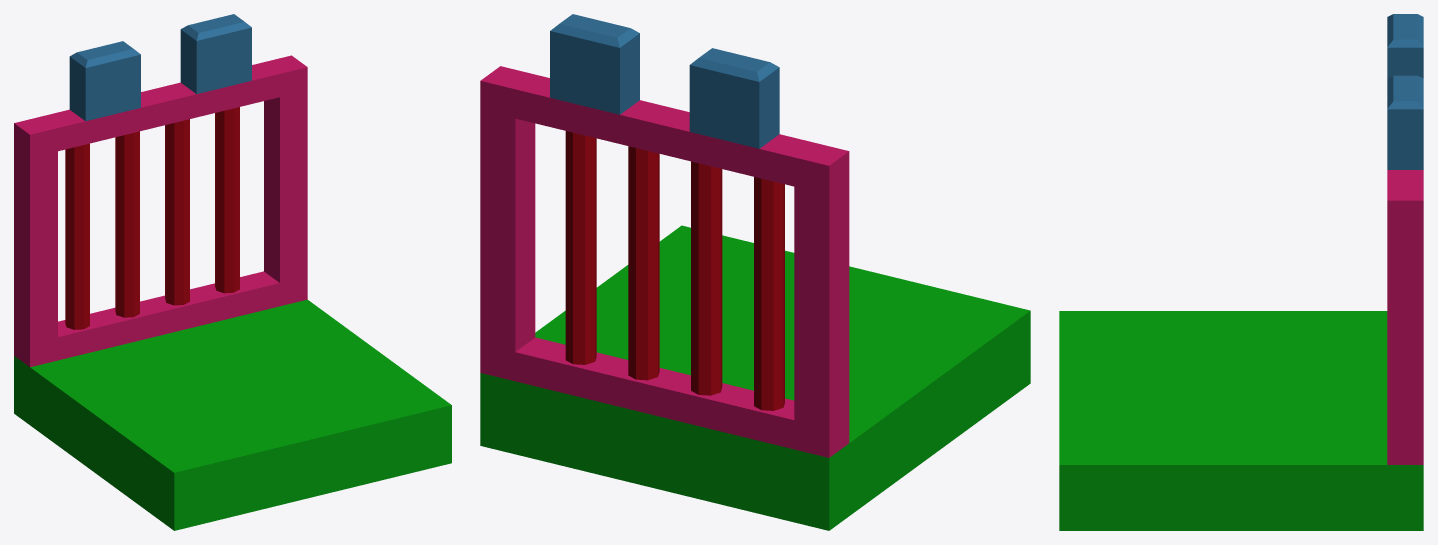
File: phstraight.glb
3 views of the same model, side by side, from view 1: azimuth 30°, elevation 25°; view 2: azimuth 150°, elevation 25°; view 3: azimuth 270°, elevation 25° (orthographic). The views are drawn at different scales.
Size of the model in its own units: 5 by 6 by 5.
